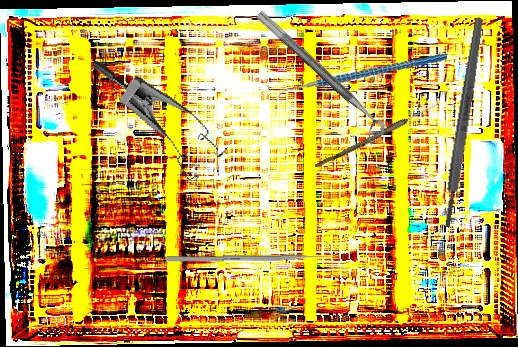Chopper: (273, 34, 448, 123)
Fixation Ring: (245, 9, 390, 147)
Pusher: (165, 253, 340, 263)
Scalpel Handle: (440, 17, 487, 228)
Speculum: (65, 57, 241, 191)
Surgical Spoon: (314, 100, 440, 171)
